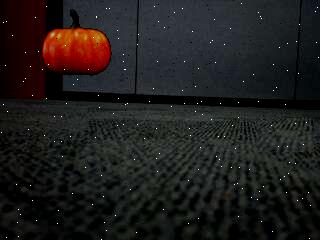Pumpkin: (42, 10, 113, 77)
